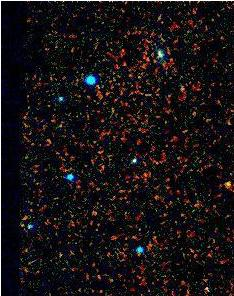star: (213, 170, 234, 200)
